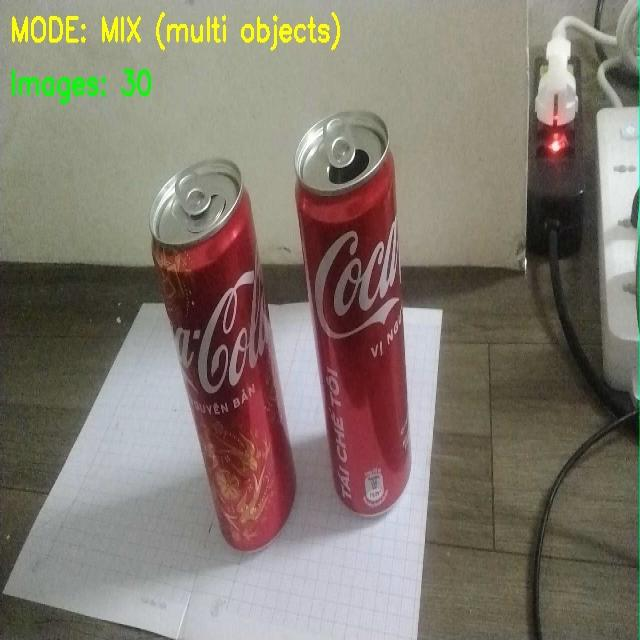Coca: (144, 145, 298, 560)
Coca_open: (292, 103, 470, 525)
